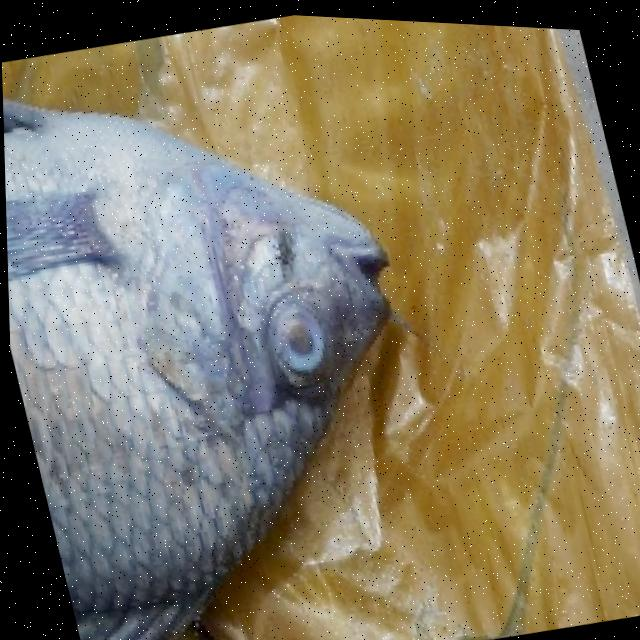Non-Fresh: (231, 273, 360, 415)
